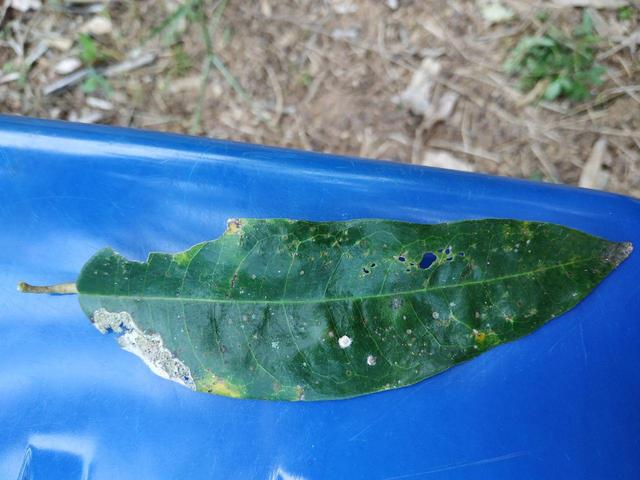blight spot: (345, 242, 481, 287)
